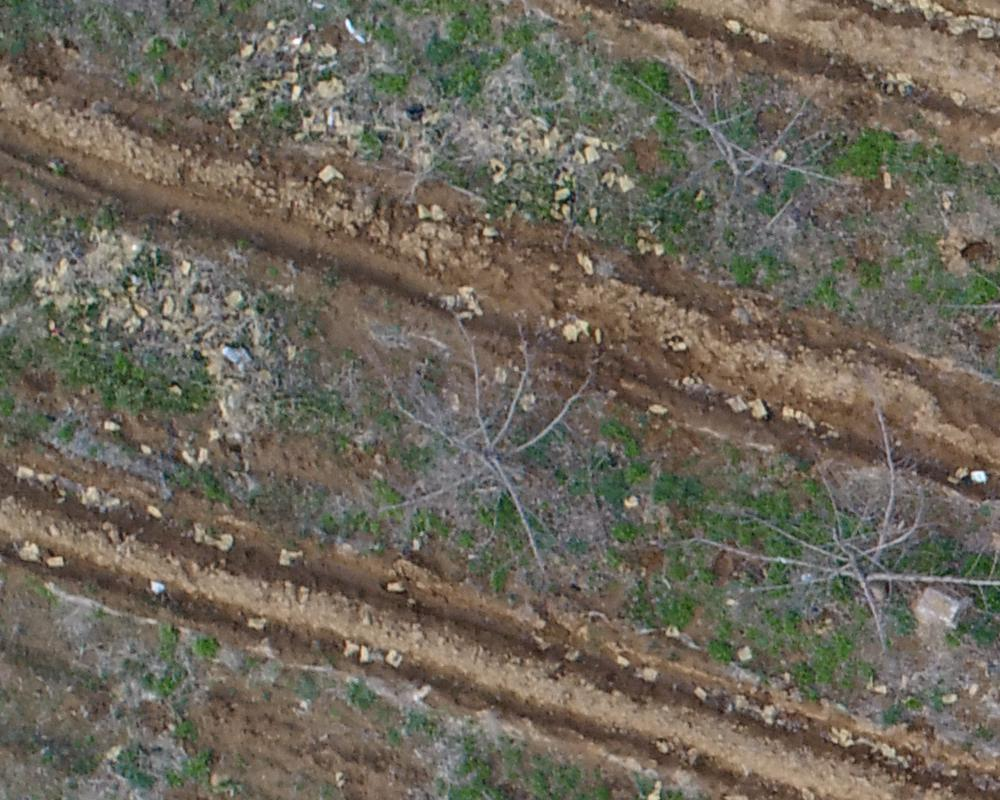apple: (681, 410, 990, 674), (338, 303, 601, 586), (623, 36, 881, 242)
